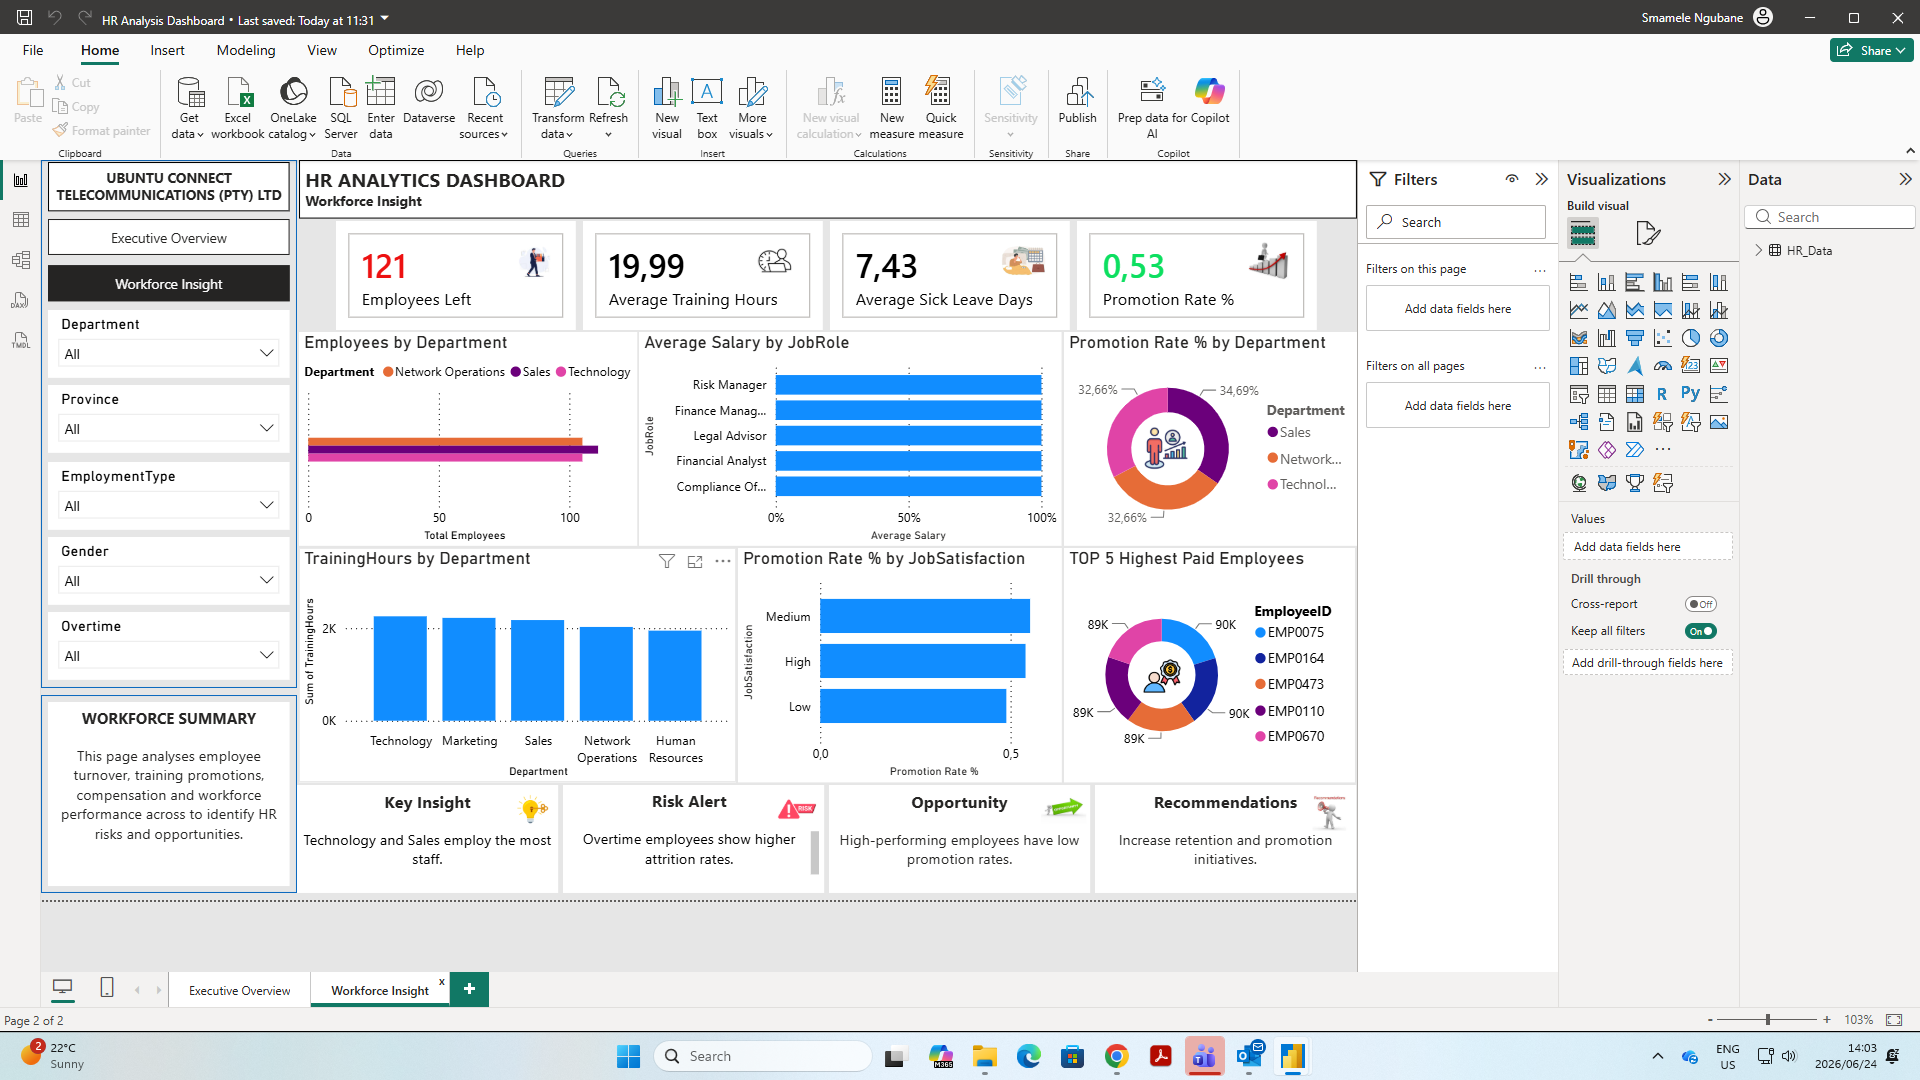

This screenshot's page, from the dashboard's own definition file:
{"tool":"powerbi","page":{"name":"Workforce Insight","canvas":[1280,720],"ordinal":1},"visuals":[{"type":"shape","box":[0,0,249,513.6],"z":0},{"type":"textbox","box":[6.8,2,235.4,48],"z":1000},{"type":"pageNavigator","box":[6.8,57.4,235.4,80.7],"z":2000},{"type":"slicer","fields":{"Values":["HR_Data.Department"]},"box":[6.8,145.9,235.4,66.1],"z":3000},{"type":"slicer","fields":{"Values":["HR_Data.Province"]},"box":[6.8,218.8,235.4,66.1],"z":4000},{"type":"slicer","fields":{"Values":["HR_Data.EmploymentType"]},"box":[6.8,293.7,235.4,66.1],"z":5000},{"type":"slicer","fields":{"Values":["HR_Data.Gender"]},"box":[6.8,366.7,235.4,66.1],"z":6000},{"type":"slicer","fields":{"Values":["HR_Data.Overtime"]},"box":[6.8,439.6,235.4,66.1],"z":7000},{"type":"shape","box":[0,520.4,249,192.6],"z":8000},{"type":"textbox","box":[6.8,527.2,235.4,179],"z":9000},{"type":"textbox","box":[250.9,0,1029.1,57.4],"z":10000},{"type":"cardVisual","fields":{"Data":["HR_Data.Employees Left"]},"box":[286.9,59,233.4,106],"z":11000},{"type":"cardVisual","fields":{"Data":["HR_Data.Average Training Hours"]},"box":[527.2,59,233.4,106],"z":12000},{"type":"cardVisual","fields":{"Data":["HR_Data.Average Sick Leave Days"]},"box":[767.4,59,233.4,106],"z":13000},{"type":"cardVisual","fields":{"Data":["HR_Data.Promotion Rate %"]},"box":[1007.7,59,233.4,106],"z":14000},{"type":"clusteredBarChart","title":"Employees by Department","fields":{"Series":["HR_Data.Department"],"Y":["HR_Data.Total Employees"]},"box":[250.9,167.3,328.8,208.1],"z":15000},{"type":"hundredPercentStackedBarChart","title":" Average Salary by JobRole","fields":{"Y":["HR_Data.Average Salary"],"Category":["HR_Data.JobRole"]},"box":[582,167.3,411.4,208.1],"z":16000},{"type":"clusteredColumnChart","title":"TrainingHours by Department","fields":{"Y":["Sum(HR_Data.TrainingHours)"],"Category":["HR_Data.Department"]},"box":[250.9,377,425,228],"z":17000},{"type":"barChart","title":"Promotion Rate % by JobSatisfaction","fields":{"Category":["HR_Data.JobSatisfaction"],"Y":["HR_Data.Promotion Rate %"]},"box":[677.9,377.4,315.1,227.6],"z":18000},{"type":"donutChart","title":"TOP 5 Highest Paid Employees","fields":{"Category":["HR_Data.EmployeeID"],"Y":["Sum(HR_Data.MonthlySalary)"]},"box":[995,377.4,283,228],"z":19000},{"type":"donutChart","title":"Promotion Rate % by Department","fields":{"Category":["HR_Data.Department"],"Y":["HR_Data.Promotion Rate %"]},"box":[995,167.3,285,208.1],"z":20000},{"type":"textbox","box":[249,607.9,253.9,105],"z":21000},{"type":"textbox","box":[508,607.9,253.9,105],"z":22000},{"type":"textbox","box":[766,607.9,253.9,105],"z":23000},{"type":"textbox","box":[1025,607.9,253.9,105],"z":24000},{"type":"image","box":[455,609.8,43.8,42.8],"z":25000},{"type":"image","box":[714,609.8,43.8,42.8],"z":26000},{"type":"image","box":[973,609.8,43.8,42.8],"z":27000},{"type":"image","box":[1231,616.7,43.8,36],"z":28000},{"type":"image","box":[446.4,78.8,56.4,37.9],"z":29000},{"type":"image","box":[685.7,78.8,56.4,37.9],"z":30000},{"type":"image","box":[927.9,78.8,56.4,37.9],"z":31000},{"type":"image","box":[1166.2,78.8,56.4,37.9],"z":32000},{"type":"image","box":[1071.9,256.8,44.7,46.7],"z":33000},{"type":"image","box":[1071.9,483.4,37.9,37],"z":34000}]}

Visuals, with their boxes on the page's 1280x720 design canvas (x1, y1, x2, y2). These are canvas units, not pixel positions in the 1920x1080 screenshot, which may show the page scaled, cropped or inside an application window:
shape: (0, 0, 249, 514)
textbox: (7, 2, 242, 50)
pageNavigator: (7, 57, 242, 138)
slicer - HR_Data.Department: (7, 146, 242, 212)
slicer - HR_Data.Province: (7, 219, 242, 285)
slicer - HR_Data.EmploymentType: (7, 294, 242, 360)
slicer - HR_Data.Gender: (7, 367, 242, 433)
slicer - HR_Data.Overtime: (7, 440, 242, 506)
shape: (0, 520, 249, 713)
textbox: (7, 527, 242, 706)
textbox: (251, 0, 1280, 57)
cardVisual - HR_Data.Employees Left: (287, 59, 520, 165)
cardVisual - HR_Data.Average Training Hours: (527, 59, 761, 165)
cardVisual - HR_Data.Average Sick Leave Days: (767, 59, 1001, 165)
cardVisual - HR_Data.Promotion Rate %: (1008, 59, 1241, 165)
"Employees by Department" clusteredBarChart: (251, 167, 580, 375)
" Average Salary by JobRole" hundredPercentStackedBarChart: (582, 167, 993, 375)
"TrainingHours by Department" clusteredColumnChart: (251, 377, 676, 605)
"Promotion Rate % by JobSatisfaction" barChart: (678, 377, 993, 605)
"TOP 5 Highest Paid Employees" donutChart: (995, 377, 1278, 605)
"Promotion Rate % by Department" donutChart: (995, 167, 1280, 375)
textbox: (249, 608, 503, 713)
textbox: (508, 608, 762, 713)
textbox: (766, 608, 1020, 713)
textbox: (1025, 608, 1279, 713)
image: (455, 610, 499, 653)
image: (714, 610, 758, 653)
image: (973, 610, 1017, 653)
image: (1231, 617, 1275, 653)
image: (446, 79, 503, 117)
image: (686, 79, 742, 117)
image: (928, 79, 984, 117)
image: (1166, 79, 1223, 117)
image: (1072, 257, 1117, 304)
image: (1072, 483, 1110, 520)
